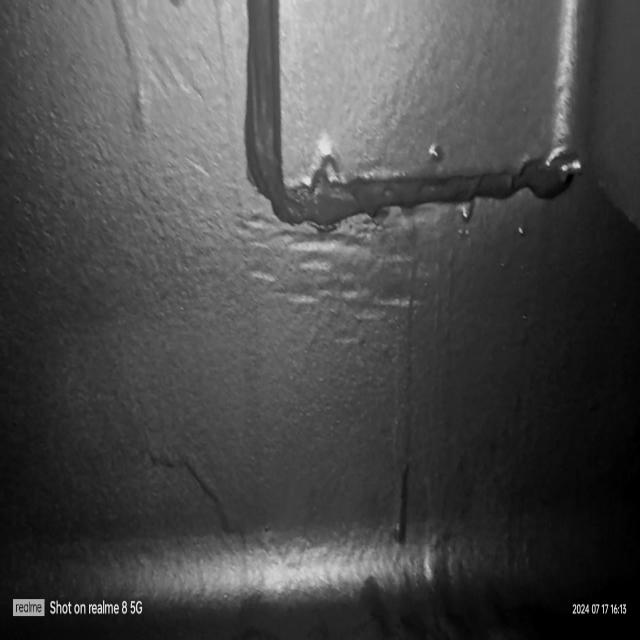paint drips: (130, 420, 247, 542), (387, 221, 412, 543), (453, 198, 480, 242), (425, 135, 448, 169)
